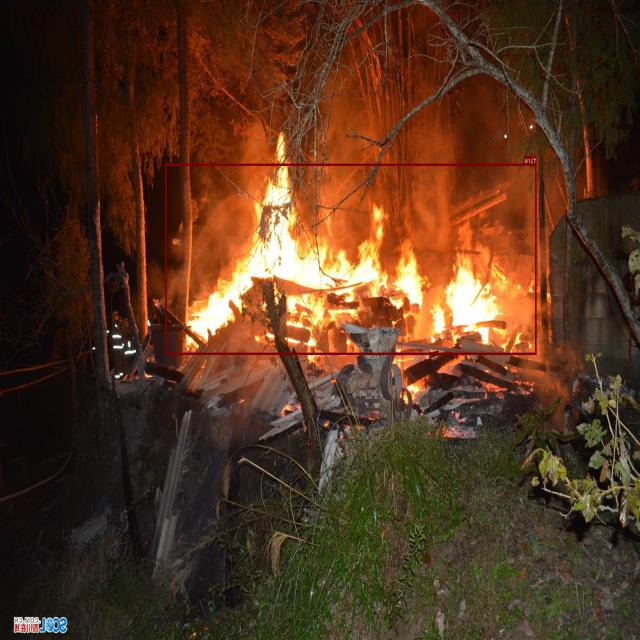fire: (166, 163, 536, 354)
